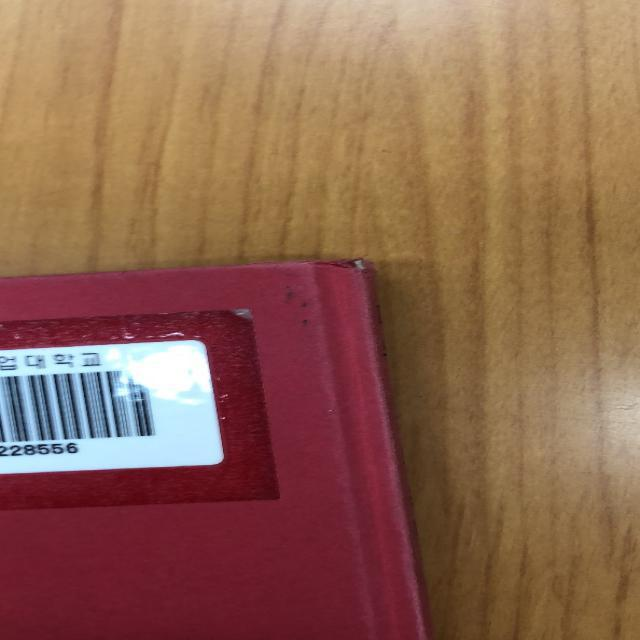Ripped: (314, 256, 382, 277)
Wornout: (22, 257, 313, 282)
